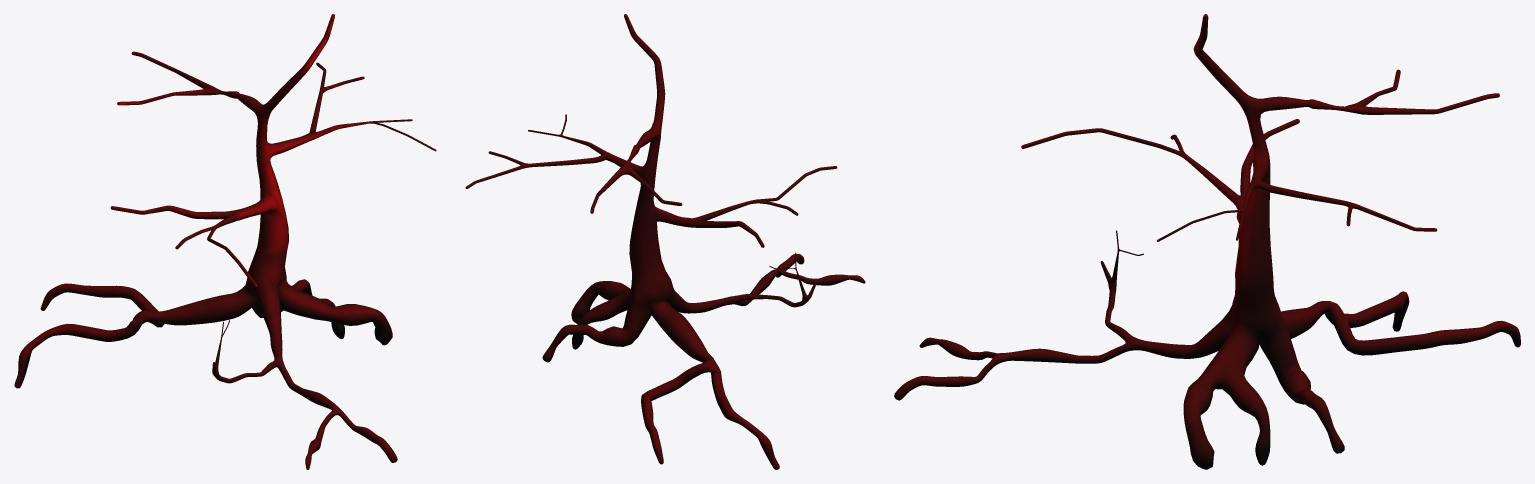
File: tree.obj
3 views of the same model, side by side, from view 1: azimuth 30°, elevation 25°; view 2: azimuth 150°, elevation 25°; view 3: azimuth 270°, elevation 25° (orthographic). The views are drawn at different scales.
Parts seen in each view (by area): view 1: Tree; view 2: Tree; view 3: Tree.
Part boxes in pixels (x1,y1,x2,y2): Tree: (14, 14, 436, 469); Tree: (465, 14, 865, 469); Tree: (894, 14, 1520, 469).
Bounding box in the file's own units: 14.99 × 16.01 × 19.72.
